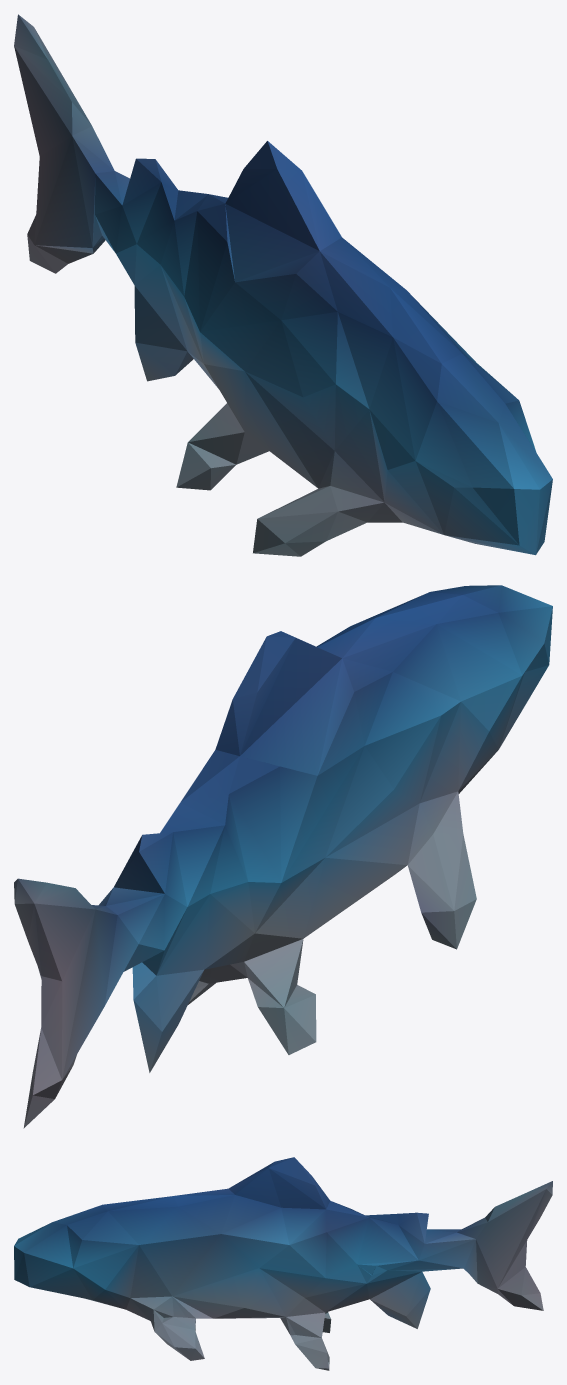
Rendered from salmon3.glb.
3 views of the same model, one above another, from view 1: azimuth 30°, elevation 25°; view 2: azimuth 150°, elevation 25°; view 3: azimuth 270°, elevation 25° (orthographic). The views are drawn at different scales.
Parts seen in each view (by area): view 1: Mesh_0; view 2: Mesh_0; view 3: Mesh_0.
Part boxes in pixels (box(x1,y1,x2,y2)): Mesh_0: box(14, 14, 552, 556); Mesh_0: box(14, 585, 552, 1128); Mesh_0: box(14, 1157, 552, 1370).
Size of the model in its own units: 3.67 by 5.86 by 14.68.
